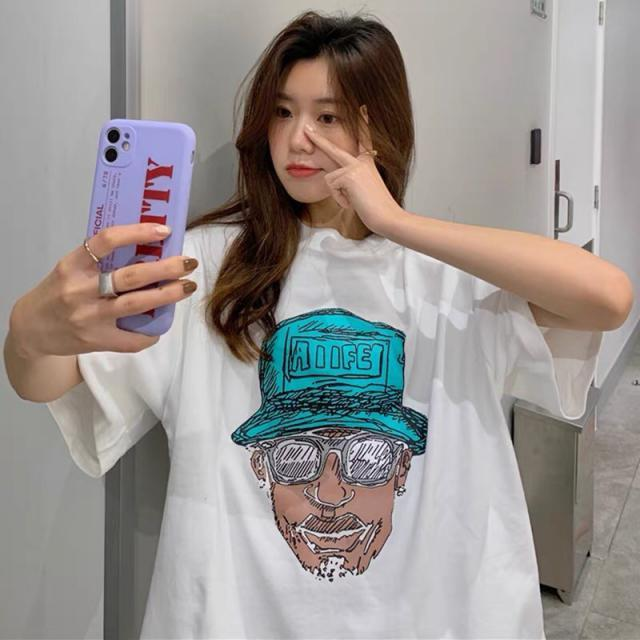Shirt: (39, 205, 610, 640)
